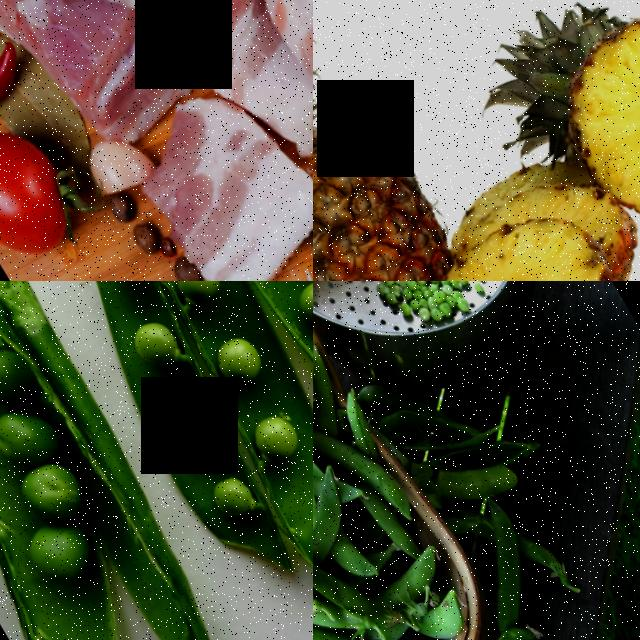peas: (0, 281, 134, 599), (358, 281, 482, 328)
pineapple: (313, 20, 474, 281), (513, 0, 640, 236)
pork belly: (111, 73, 313, 281), (10, 0, 228, 148), (154, 0, 313, 153)
tomato: (0, 106, 89, 275)
